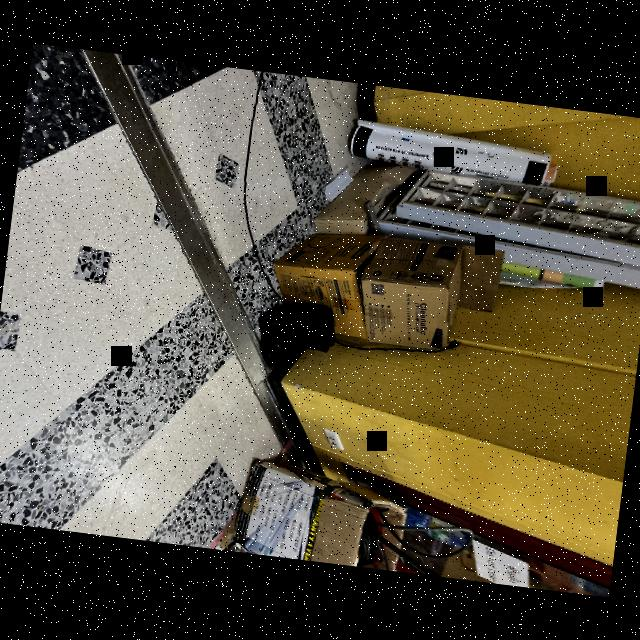cardboard_box: (234, 454, 414, 572), (353, 228, 502, 362), (268, 220, 391, 346), (317, 152, 417, 252)
